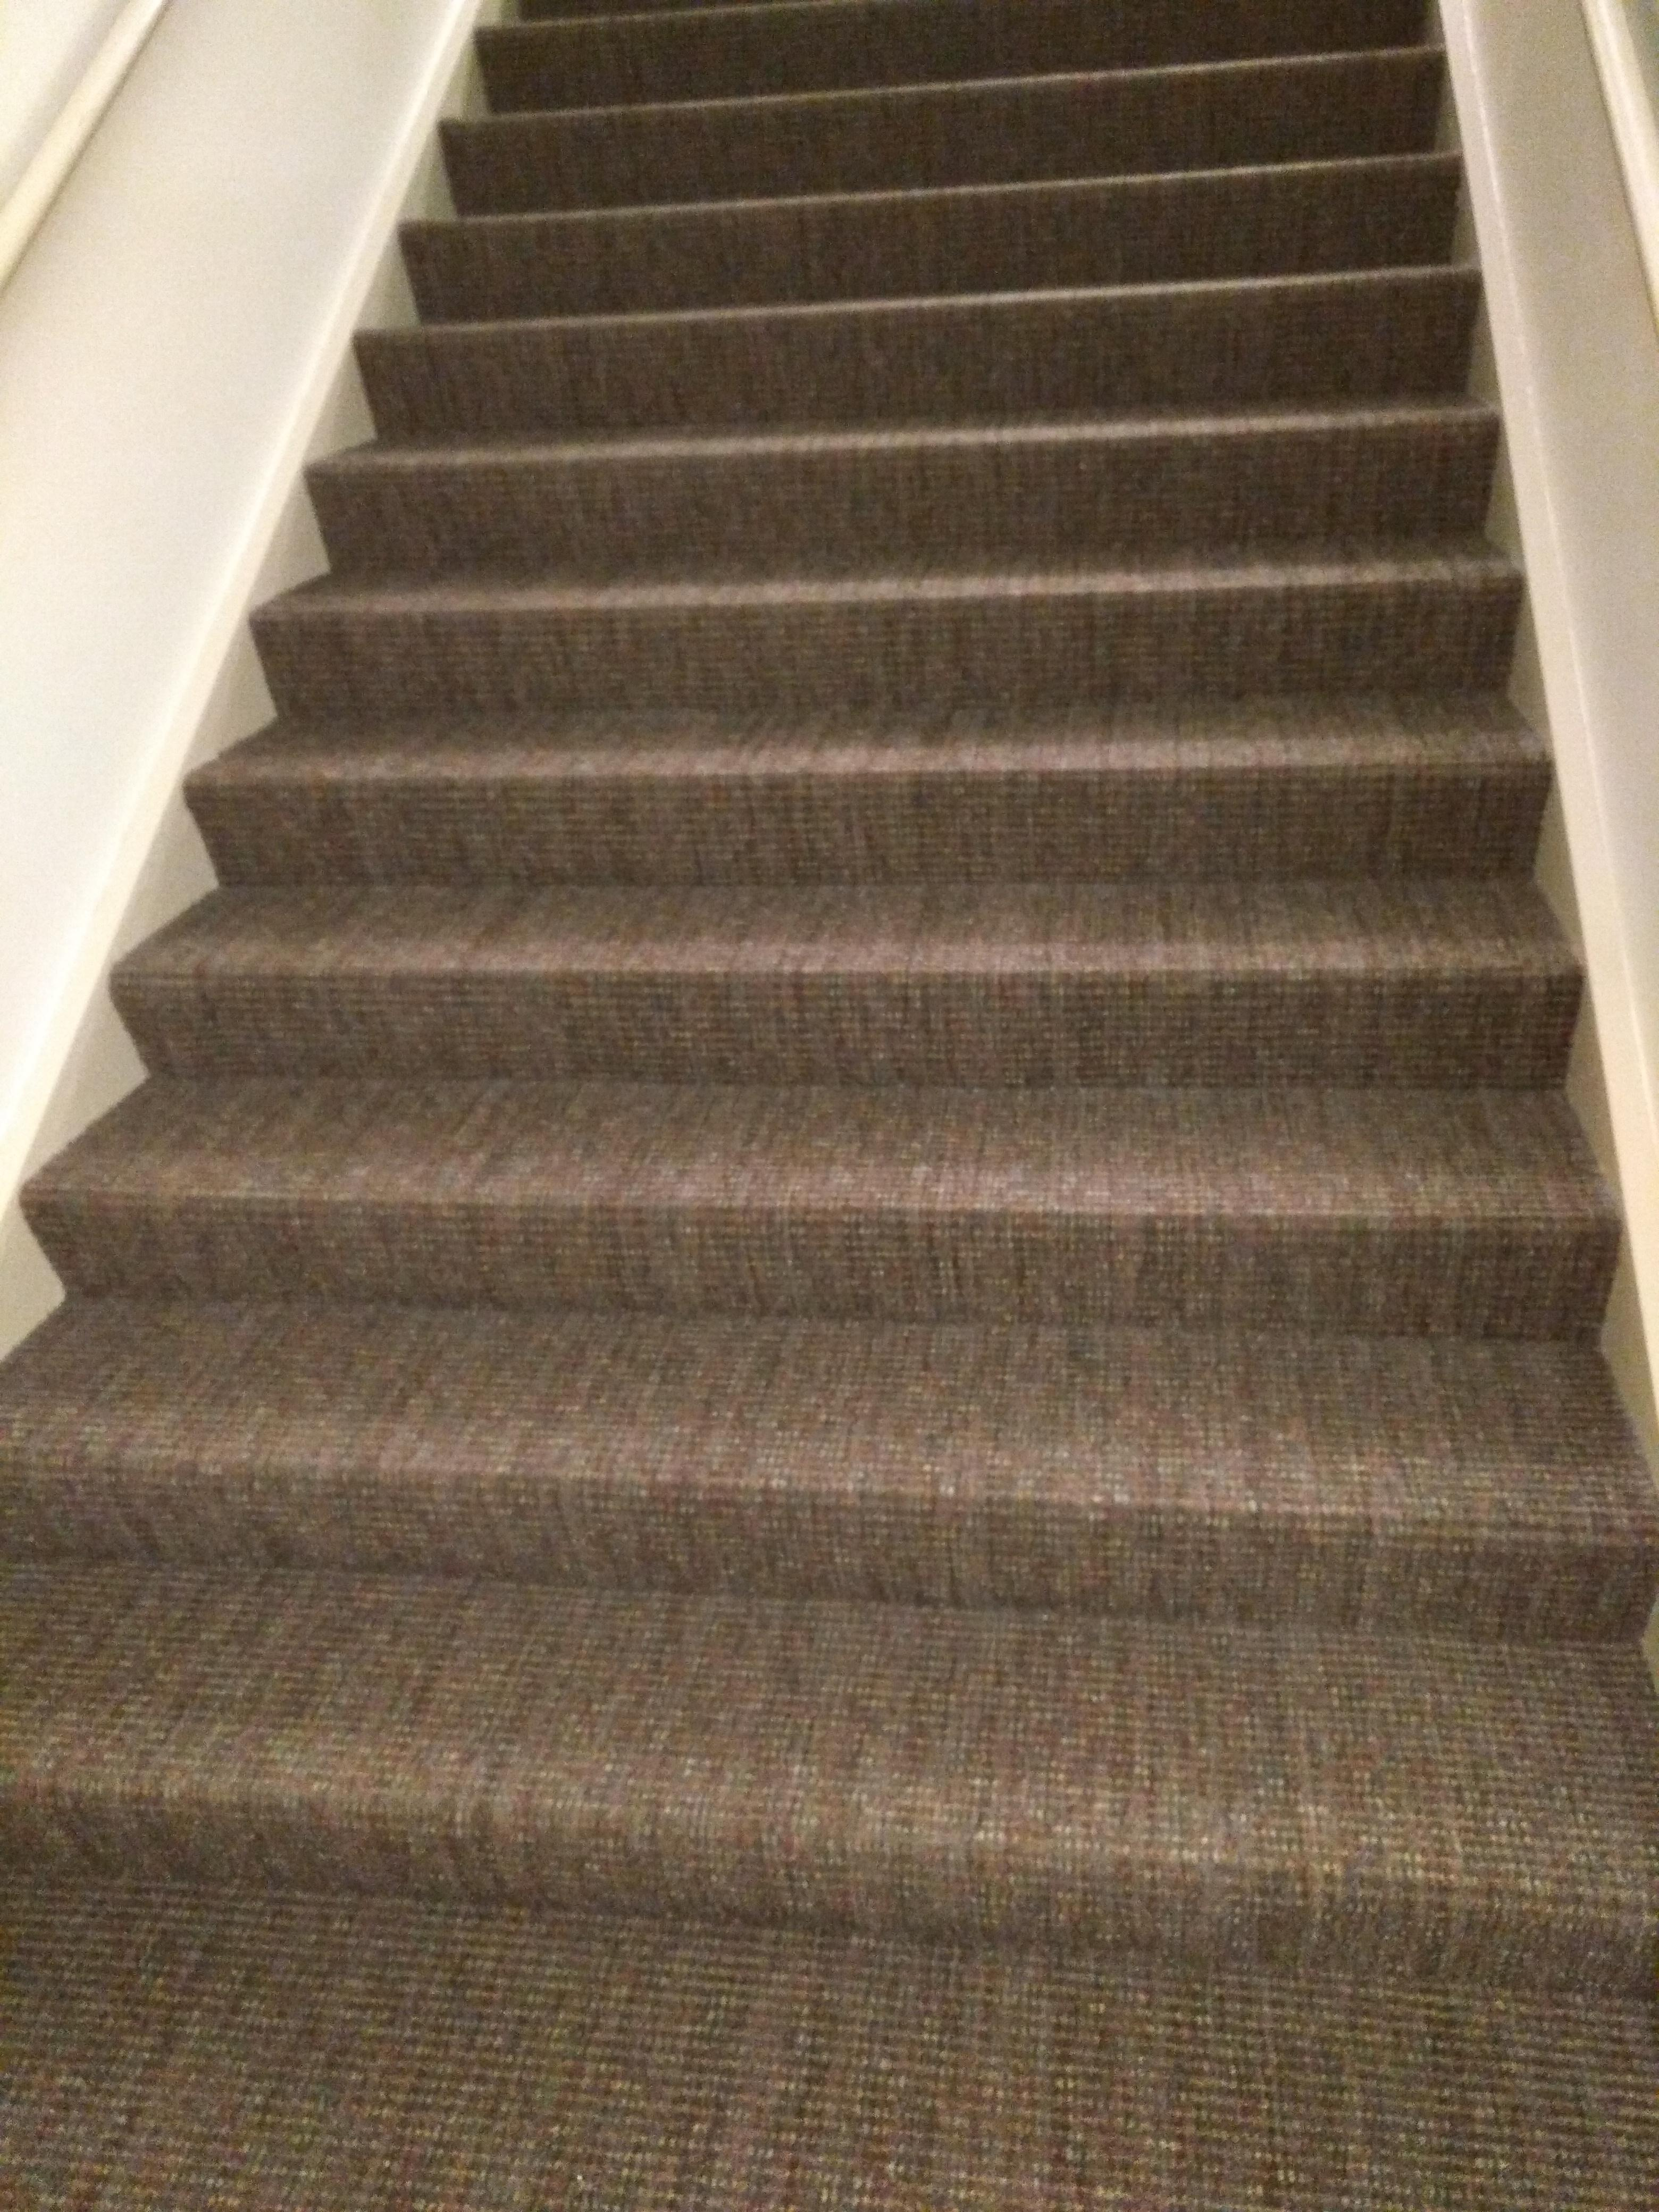stairs_up: (47, 7, 1568, 1949)
